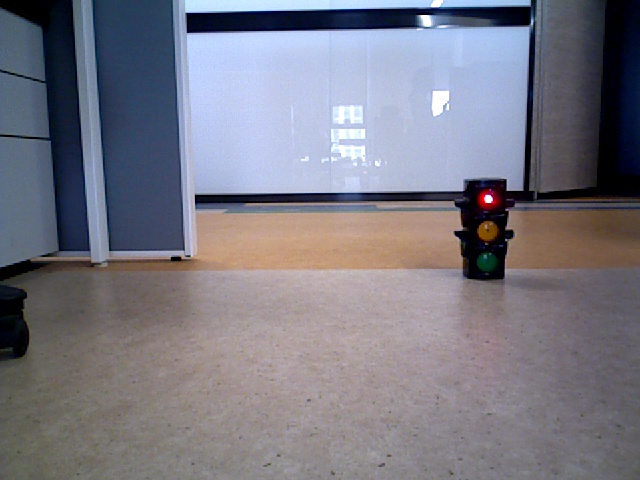red: (464, 180, 503, 276)
